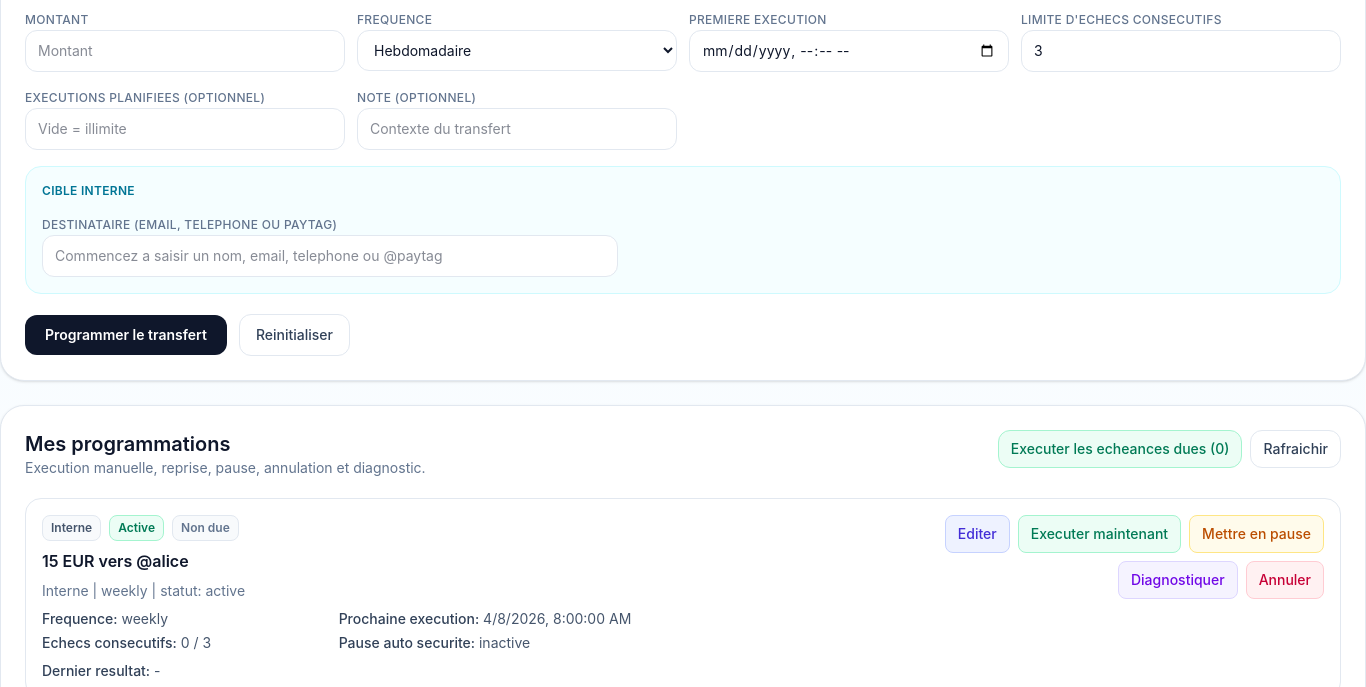
Test: ScheduledTransfersPage › edits a scheduled transfer programming
(page scrolled)
Click the button "Editer" at (977, 534), box [945, 515, 1010, 553]
(page scrolled)
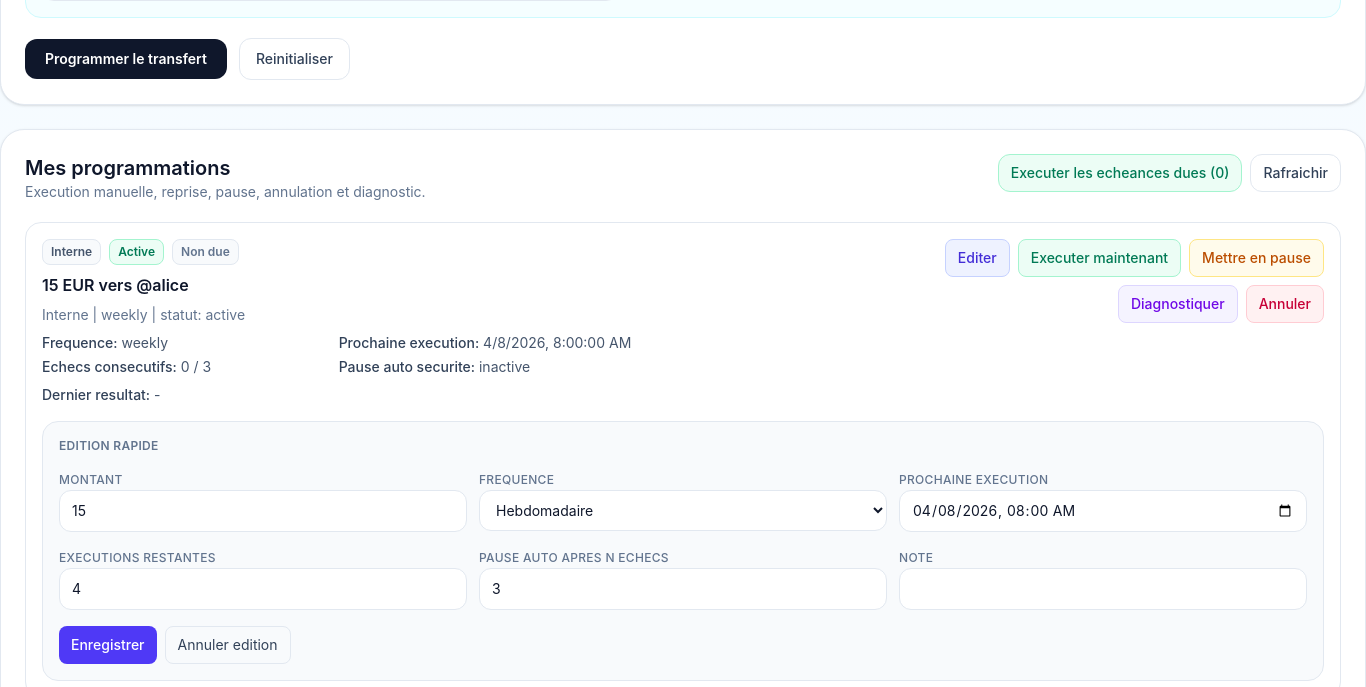
Replace the text in the number field named "Montant edition" with "20" at (263, 511), box [59, 490, 467, 532]
Select "Mensuel" in the dropdown named "Frequence edition" at (683, 510), box [479, 490, 887, 531]
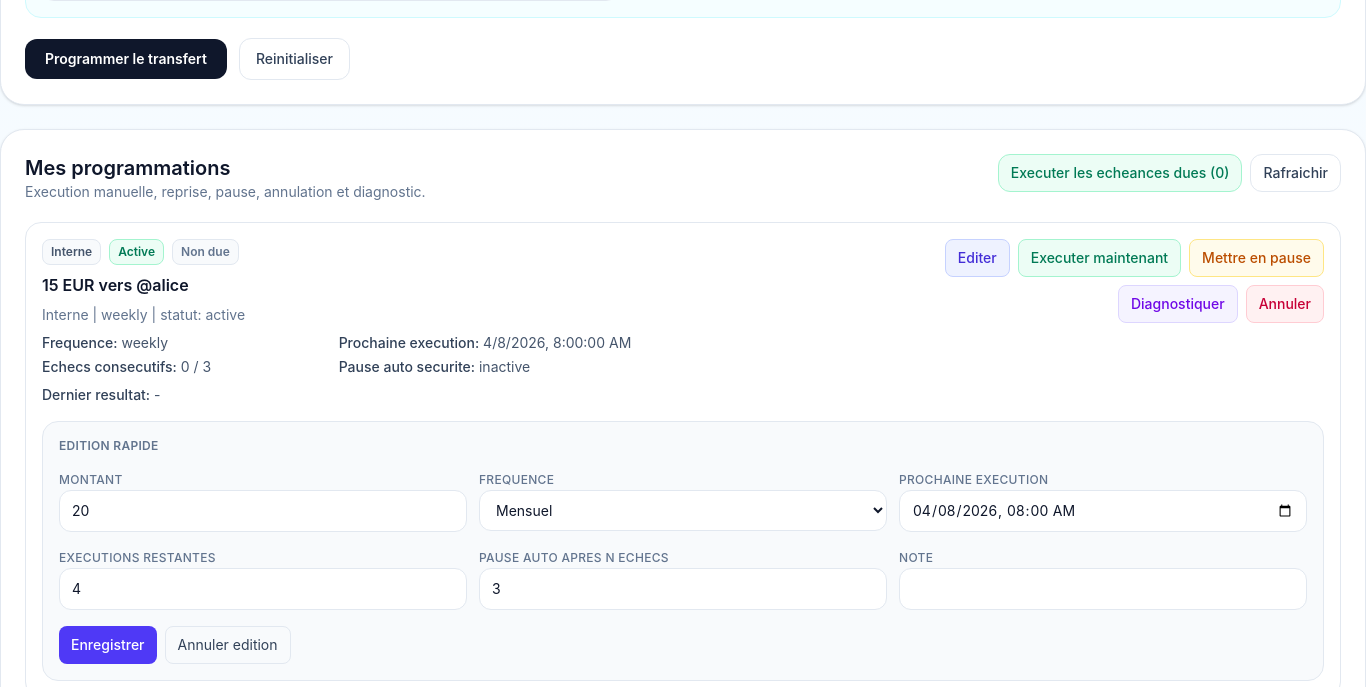
Replace the text in the field named "Execution edition" with "2026-05-08T08:00" at (1103, 511), box [899, 490, 1307, 532]
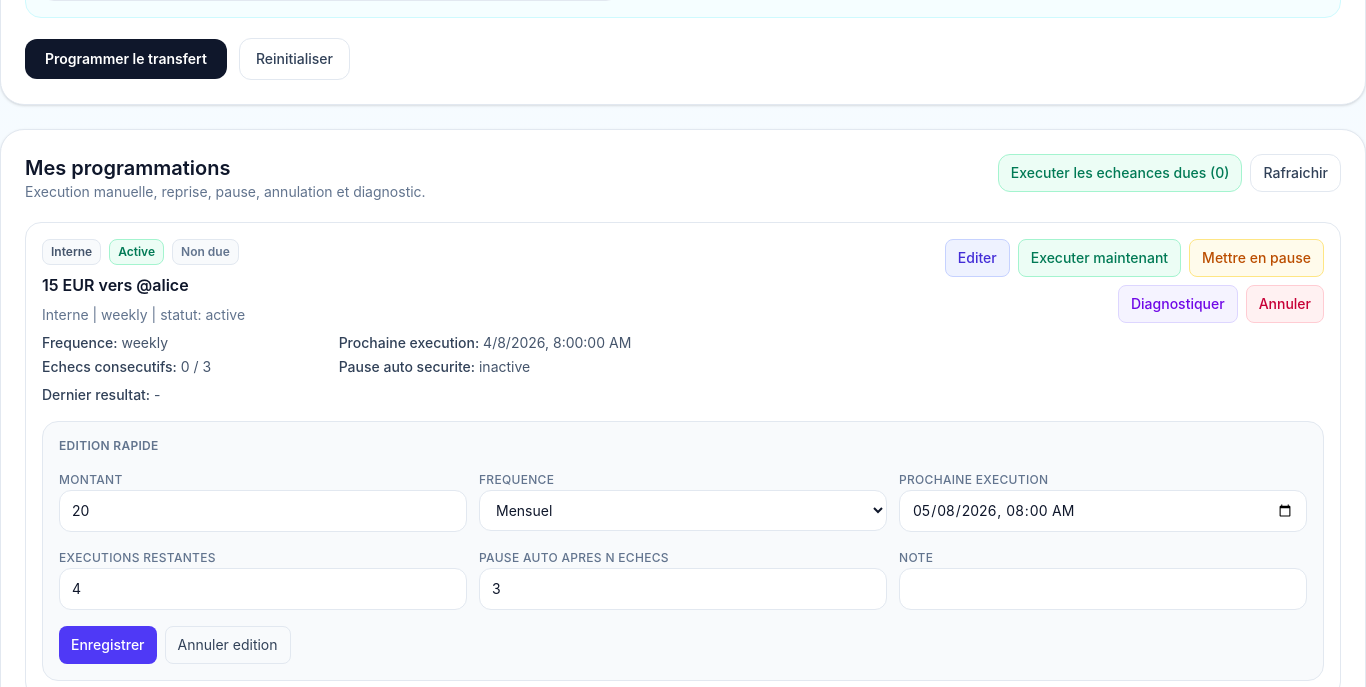
Replace the text in the number field named "Executions edition" with "2" at (263, 589), box [59, 568, 467, 610]
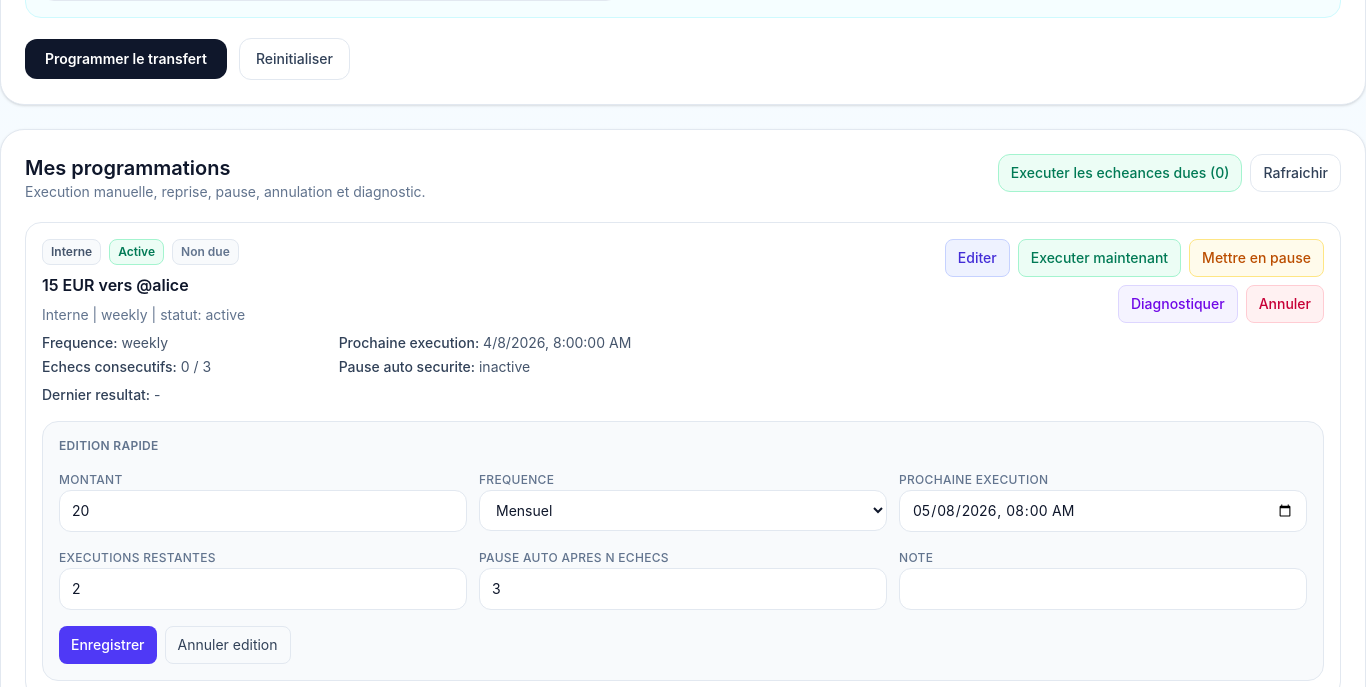
Replace the text in the number field named "Echecs edition" with "5" at (683, 589), box [479, 568, 887, 610]
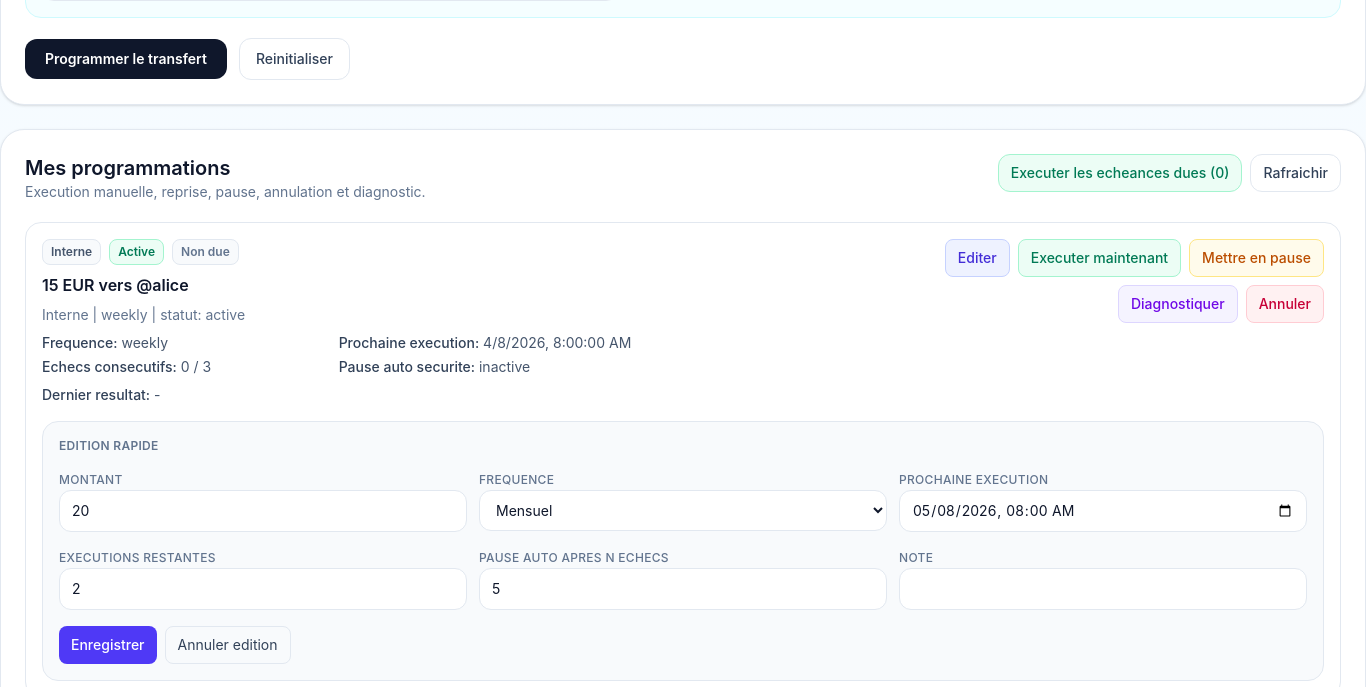
Click the button "Enregistrer" at (108, 645), box [59, 626, 156, 664]
(page scrolled)
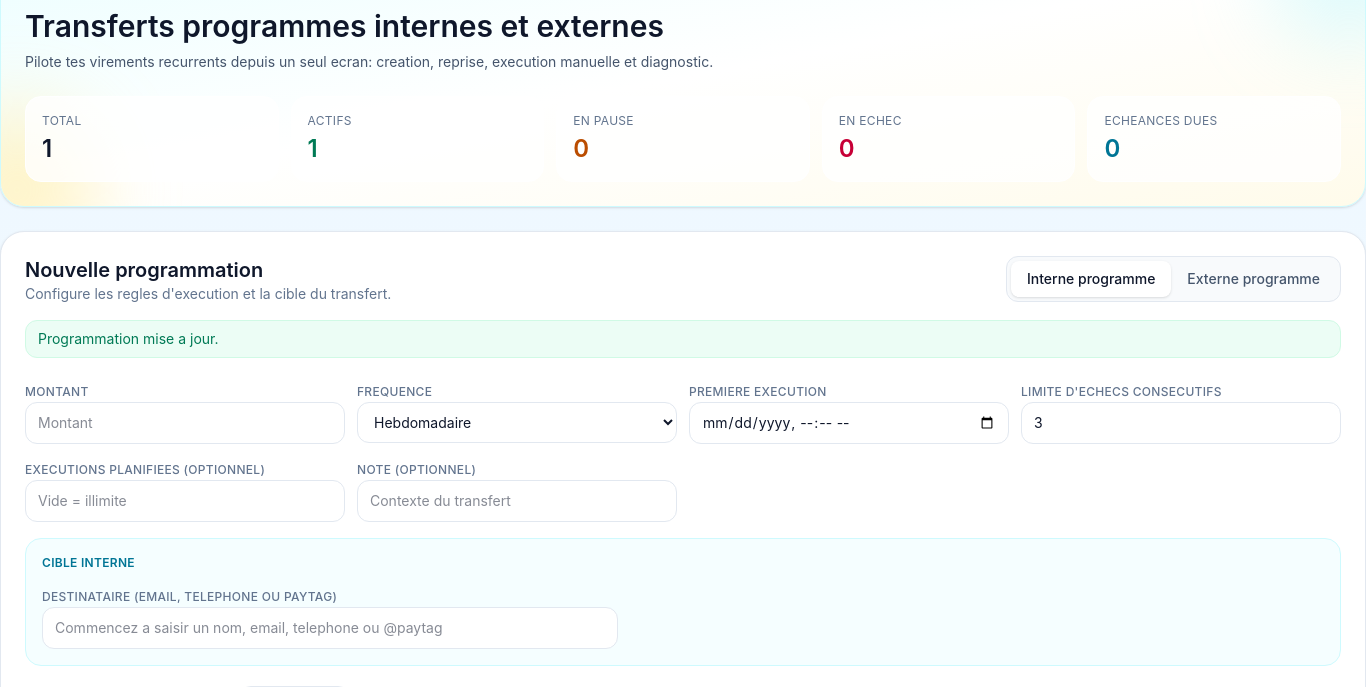
Expected: the text "Programmation mise a jour." is shown, [25, 320, 1341, 358]
